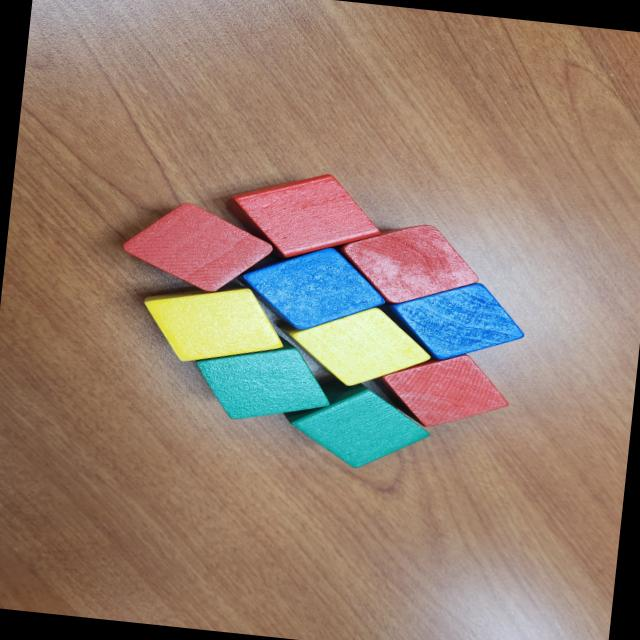blue: (235, 238, 390, 340), (376, 272, 528, 370)
green: (276, 367, 432, 475), (191, 326, 341, 432)
red: (222, 162, 385, 266), (118, 196, 277, 296), (334, 216, 483, 311), (367, 345, 515, 436)
yellow: (266, 297, 438, 396), (135, 277, 289, 373)
